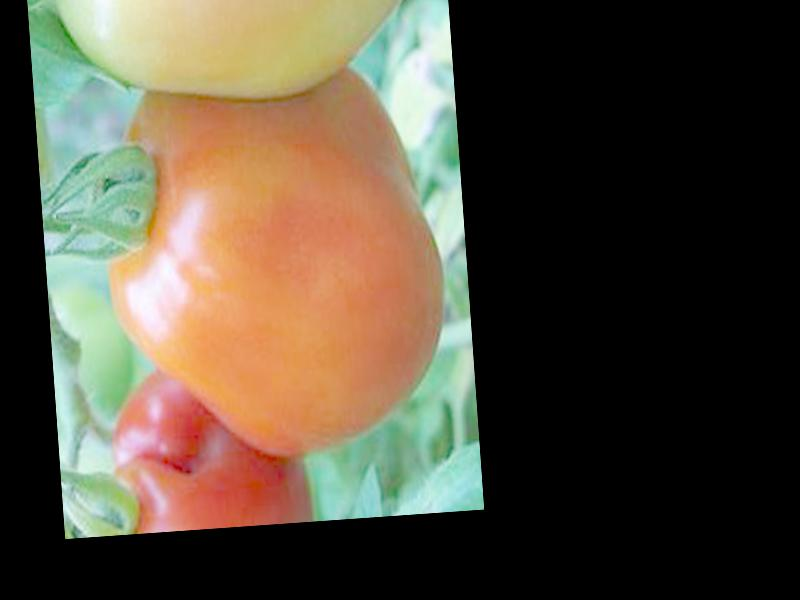Tomato: (97, 79, 454, 468)
